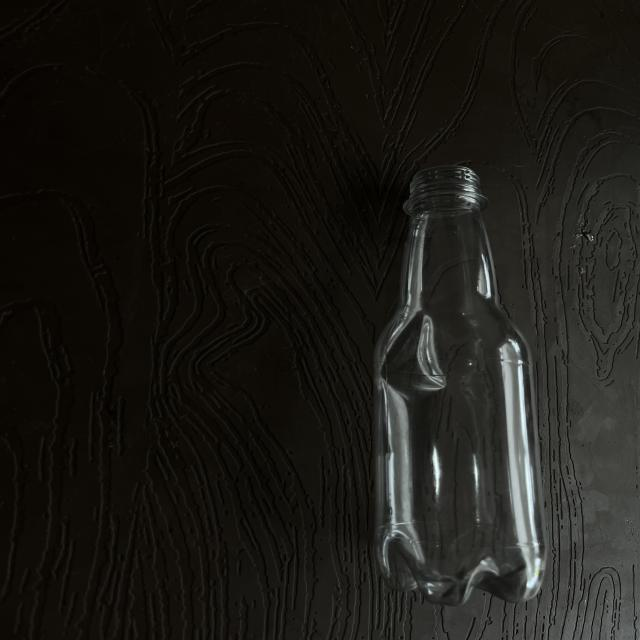PET_ClearBottle: (312, 160, 553, 610)
